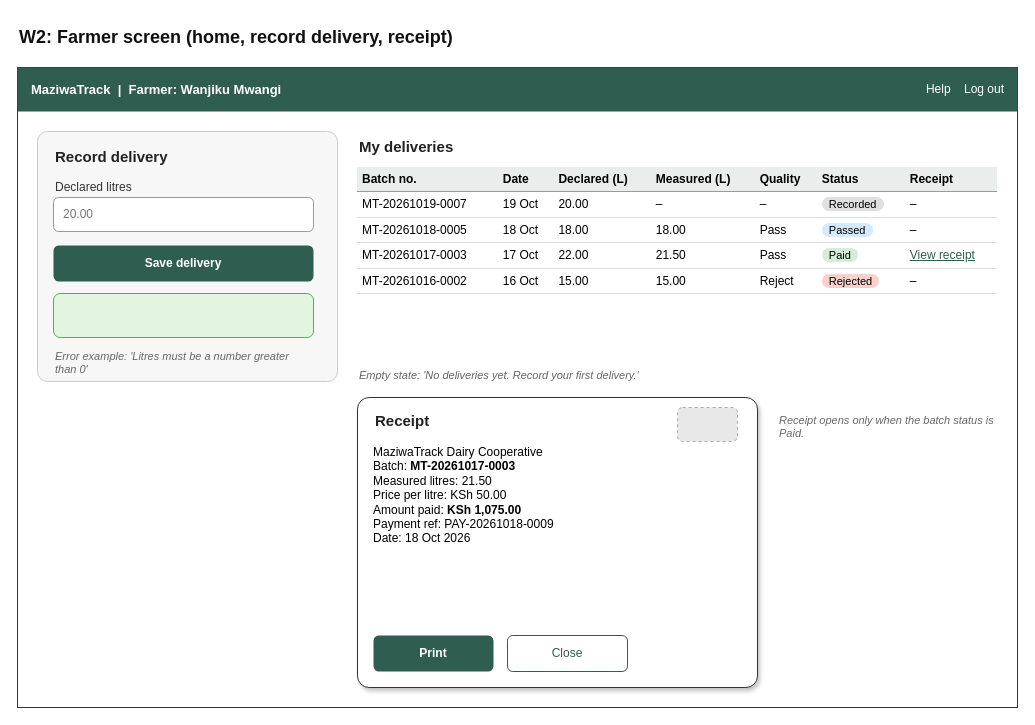
Image size: 1035x725. Some labels were removed from this diagram. The shapes that lost their labels are listed below. From the top down, each one's centre as x and y in pixels, then its label:
point (183, 315): Saved. Your batch number is MT-20261019-0007
point (707, 424): LOGO
